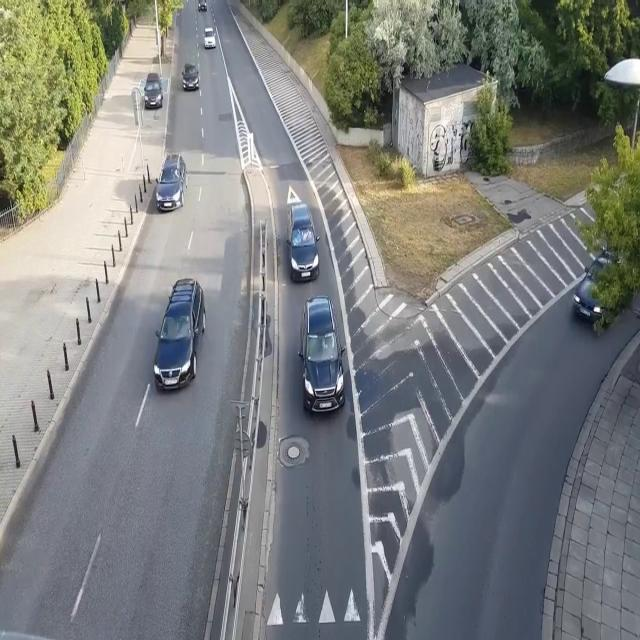car: (151, 276, 206, 395), (298, 294, 348, 417), (572, 244, 632, 333), (284, 202, 323, 284), (154, 150, 190, 213), (142, 69, 164, 112), (182, 62, 200, 92), (202, 26, 217, 49), (198, 0, 208, 14)
